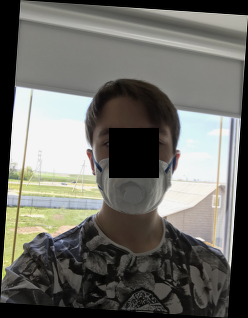with_mask: (92, 113, 175, 214)
